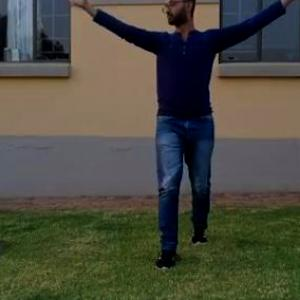takeoff: (157, 19, 296, 189)
